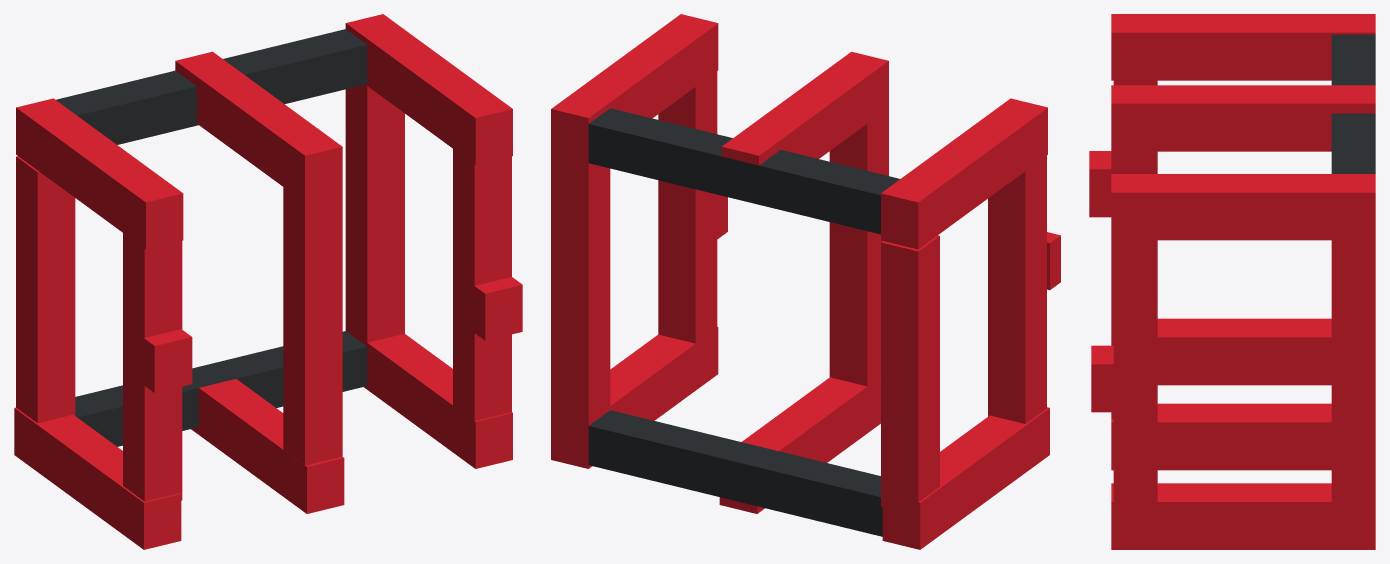
The model's file is tinker.obj.
The picture shows the model from 3 angles, left to right: view 1: azimuth 30°, elevation 25°; view 2: azimuth 150°, elevation 25°; view 3: azimuth 270°, elevation 25°; orthographic projection.
Parts seen in each view (by area): view 1: group_0_15277357, group_0_2829873; view 2: group_0_15277357, group_0_2829873; view 3: group_0_15277357, group_0_2829873.
Part boxes in pixels (left/top/right/bottom): group_0_15277357: left=14, top=14, right=522, bottom=549; group_0_2829873: left=56, top=29, right=367, bottom=446; group_0_15277357: left=551, top=14, right=1060, bottom=549; group_0_2829873: left=588, top=108, right=899, bottom=536; group_0_15277357: left=1089, top=14, right=1375, bottom=549; group_0_2829873: left=1331, top=34, right=1375, bottom=173.
Bounding box in the file's own units: 197 × 183 × 130.
